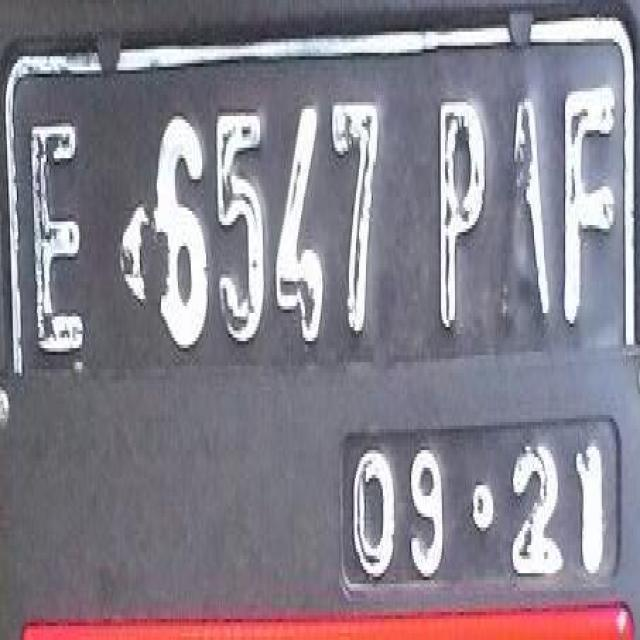4: (272, 91, 327, 352)
5: (210, 98, 272, 352)
6: (152, 109, 210, 366)
7: (328, 88, 384, 341)
A: (491, 92, 558, 319)
E: (27, 103, 88, 374)
F: (558, 84, 620, 327)
P: (431, 82, 489, 354)
